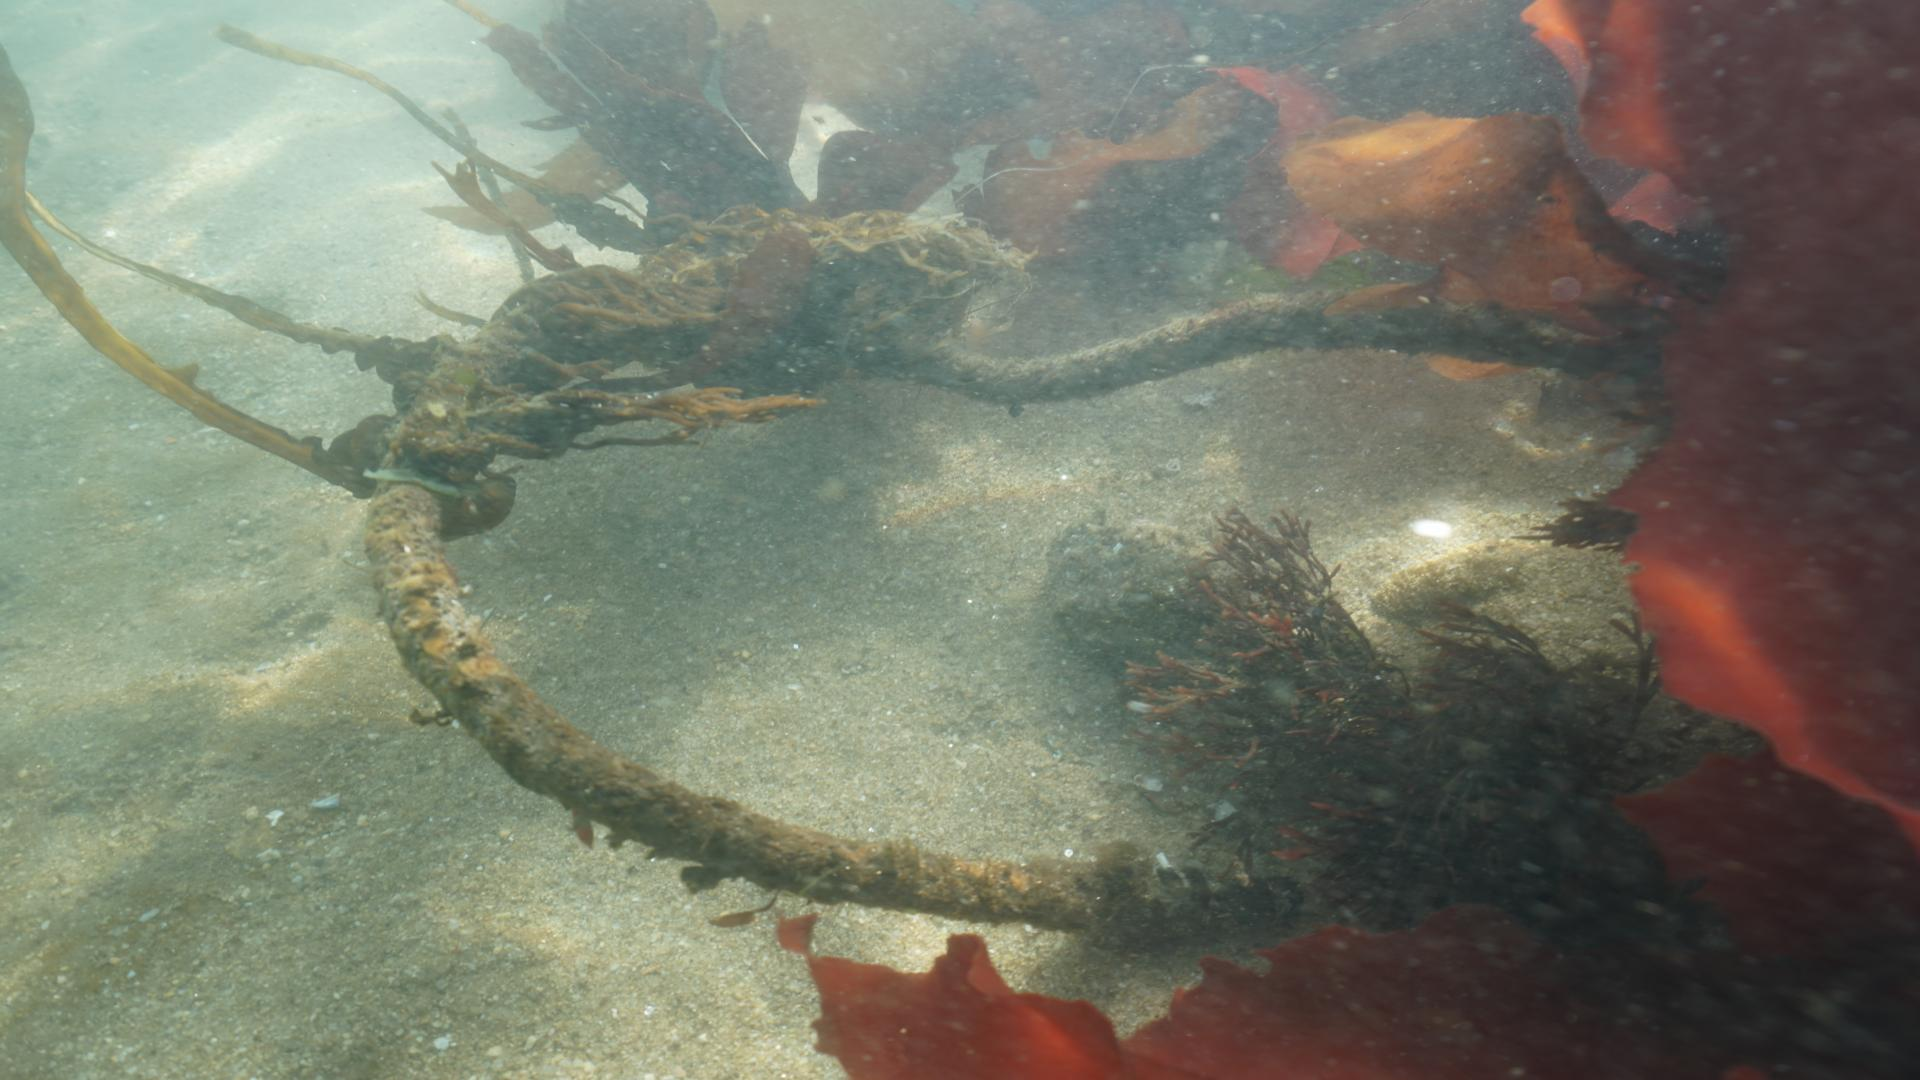rope: (361, 212, 1646, 944)
